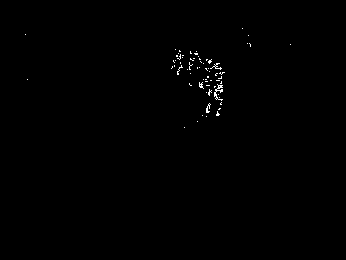person: (205, 60, 226, 119)
